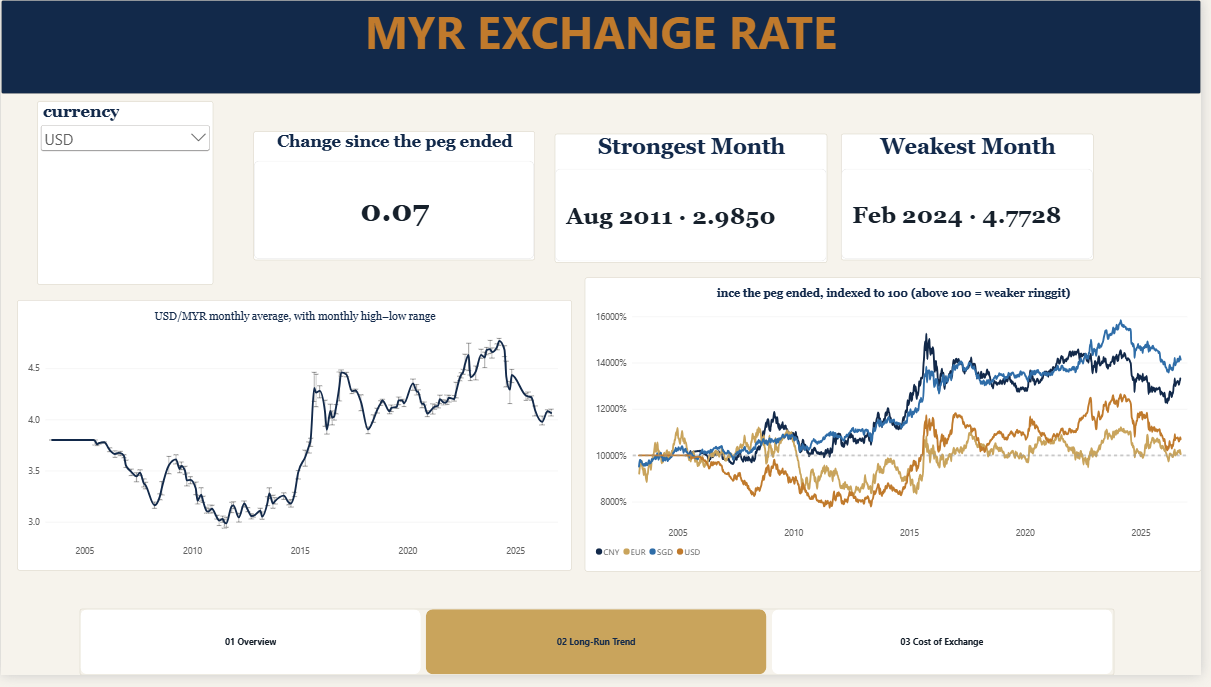

This screenshot's page, from the dashboard's own definition file:
{"tool":"powerbi","page":{"name":"02 Long-Run Trend","canvas":[1920,1080],"ordinal":1},"visuals":[{"type":"pageNavigator","box":[125,973.3,1655,106.7],"z":0},{"type":"slicer","fields":{"Values":["Currency.currency"]},"box":[58.3,161.7,281.7,293.3],"z":1000},{"type":"cardVisual","title":"Change since the peg ended","fields":{"Data":["public exchange_rates.Change Since Peg %"]},"box":[404,210,450,206],"z":2000},{"type":"cardVisual","title":"Strongest Month","fields":{"Data":["public exchange_rates.Strongest Month Text"]},"box":[886,214,436,206],"z":3000},{"type":"cardVisual","title":"Weakest Month","fields":{"Data":["public exchange_rates.Weakest Month Text"]},"box":[1344,214,404,202],"z":4000},{"type":"lineChart","fields":{"Category":["Date.Date"],"Y":["Sum(public v_monthly_summary.avg_rate)"]},"box":[25,480,887.5,432.5],"z":5000},{"type":"lineChart","title":"ince the peg ended, indexed to 100 (above 100 = weaker ringgit)","fields":{"Category":["Date.Date"],"Series":["Currency.currency"],"Y":["public exchange_rates.Indexed to Peg End"]},"box":[933.3,443.3,986.7,470],"z":6000},{"type":"textbox","box":[0,0,1920,150],"z":7000}]}

Visuals, with their boxes in screenshot pixels (x1, y1, x2, y2), scaled from the page's 1920x1080 canvas onto the 1211x687 screenshot:
pageNavigator: bbox(79, 619, 1123, 686)
slicer - Currency.currency: bbox(37, 103, 214, 289)
"Change since the peg ended" cardVisual: bbox(255, 134, 539, 265)
"Strongest Month" cardVisual: bbox(559, 136, 834, 267)
"Weakest Month" cardVisual: bbox(848, 136, 1103, 265)
lineChart - Date.Date x Sum(public v_monthly_summary.avg_rate): bbox(16, 305, 576, 580)
"ince the peg ended, indexed to 100 (above 100 = weaker ringgit)" lineChart: bbox(589, 282, 1210, 581)
textbox: bbox(0, 0, 1210, 95)
